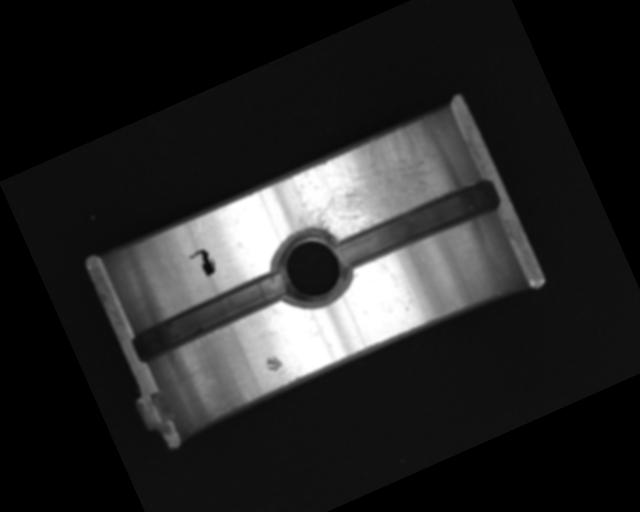blot: (186, 245, 220, 281)
bruise: (263, 352, 285, 373)
gap: (331, 173, 504, 277), (130, 267, 292, 363)
hole: (263, 219, 359, 317)
scratch: (277, 113, 463, 254)
